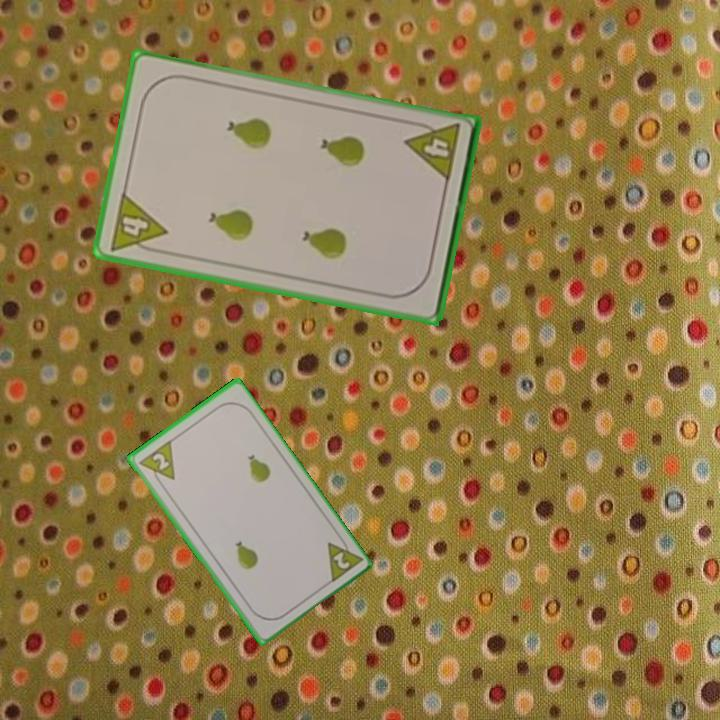2p: (135, 437, 178, 490), (323, 532, 364, 586)
4p: (106, 189, 170, 258), (402, 117, 463, 185)
